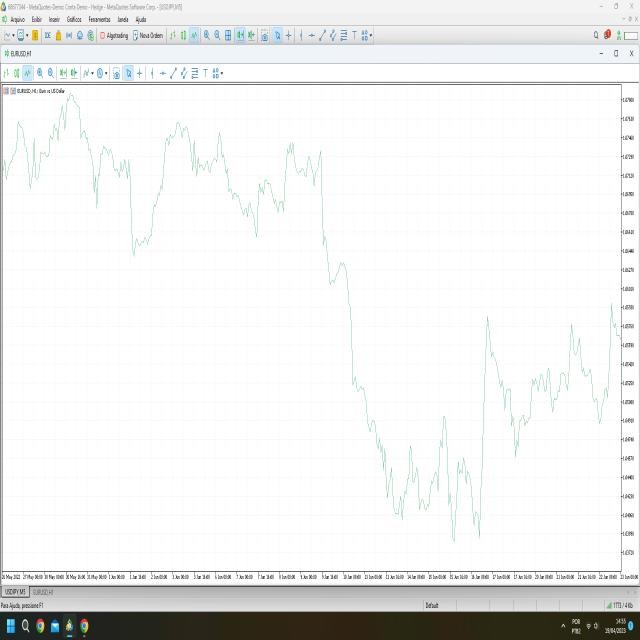bandeira_alta: (256, 146, 286, 258)
bandeira_baixa: (319, 135, 351, 304)
fundo_duplo: (443, 344, 485, 558)
